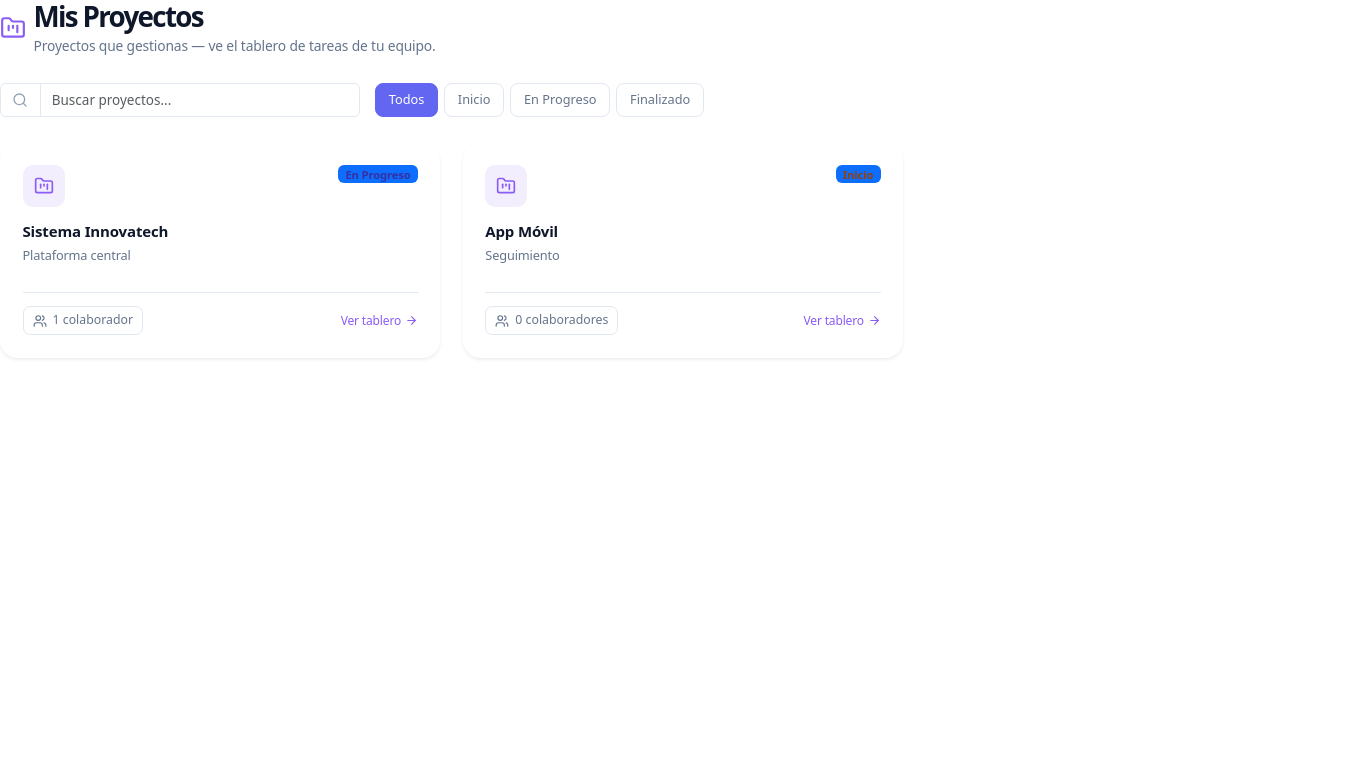
Scenario: GestorProjects › abre el modal con los colaboradores del proyecto
Expected: the heading "Sistema Innovatech" is shown, x1=22 y1=222 x2=168 y2=242
Click the button "1 colaborador": coordinates (83, 320) x1=22 y1=306 x2=143 y2=335
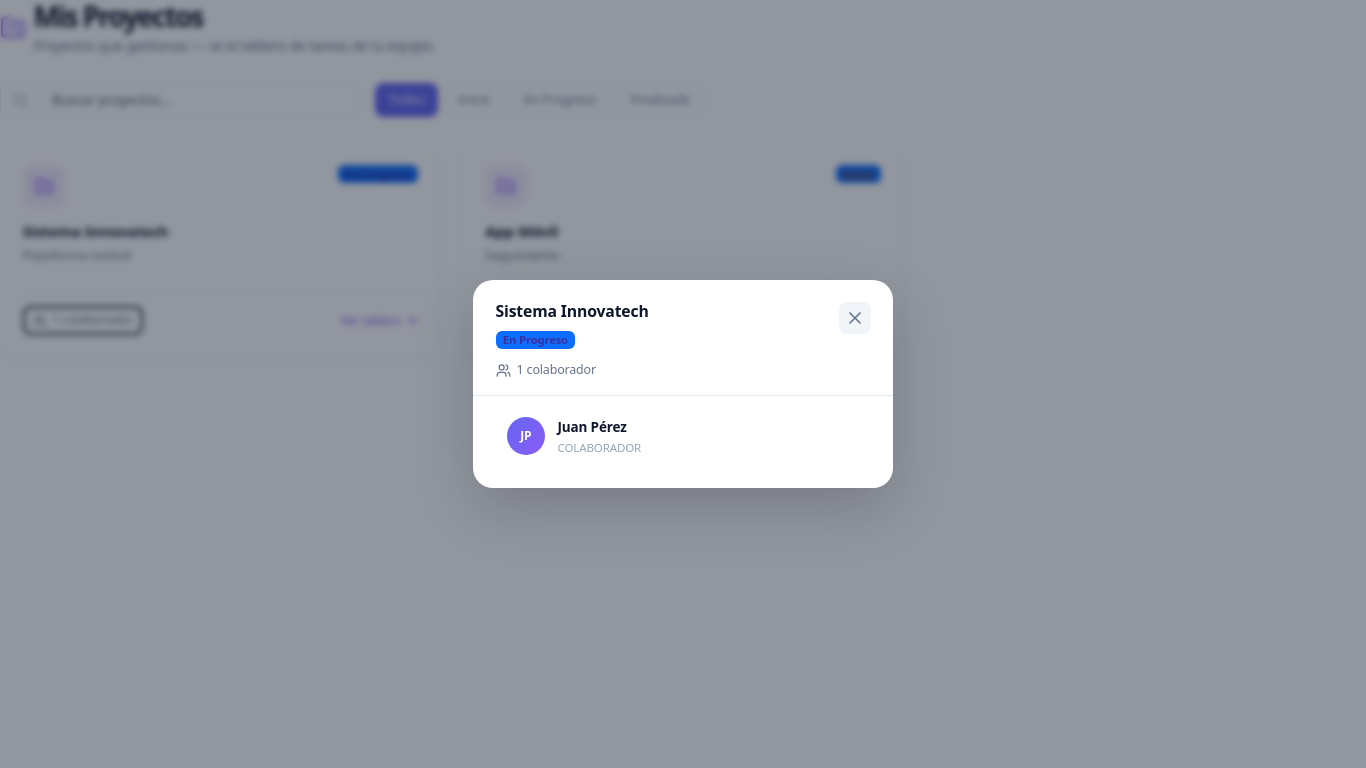
Now the text "Juan Pérez" is shown, box x1=558 y1=418 x2=627 y2=436
